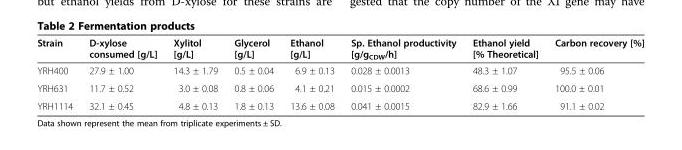table: (36, 36, 643, 111)
table column: (341, 36, 463, 111), (545, 36, 643, 111), (80, 36, 164, 111), (463, 36, 545, 111), (164, 36, 225, 111), (281, 36, 341, 111), (225, 36, 281, 111), (36, 36, 80, 111)
table column header: (36, 36, 643, 62)
table row: (36, 36, 643, 62), (36, 62, 643, 79), (36, 79, 643, 96), (36, 96, 643, 111)
